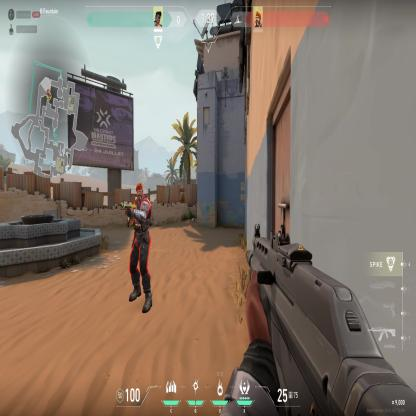enemy: (126, 182, 154, 318)
